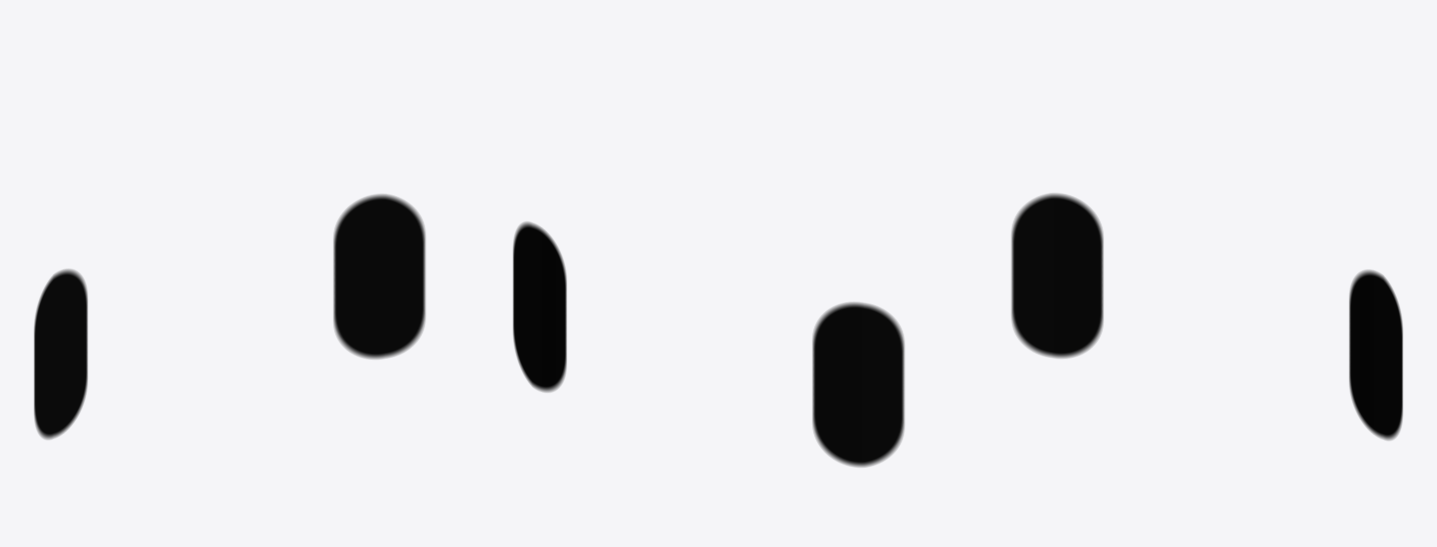
Rendered from 01-Digital-Face-eyes.glb.
3 views of the same model, side by side, from view 1: azimuth 30°, elevation 25°; view 2: azimuth 150°, elevation 25°; view 3: azimuth 330°, elevation 25° (orthographic).
Visible parts, largest first — view 1: 01-Digital-Face-eyes; view 2: 01-Digital-Face-eyes; view 3: 01-Digital-Face-eyes.
Boxes of the visible parts, x1,y1,x2,y2 form: 01-Digital-Face-eyes: (34,194,425,439); 01-Digital-Face-eyes: (513,222,904,466); 01-Digital-Face-eyes: (1011,193,1402,440).
Bounding box in the file's own units: 0.691 × 0.6 × 0.0885.
1 material, 1 textured.
